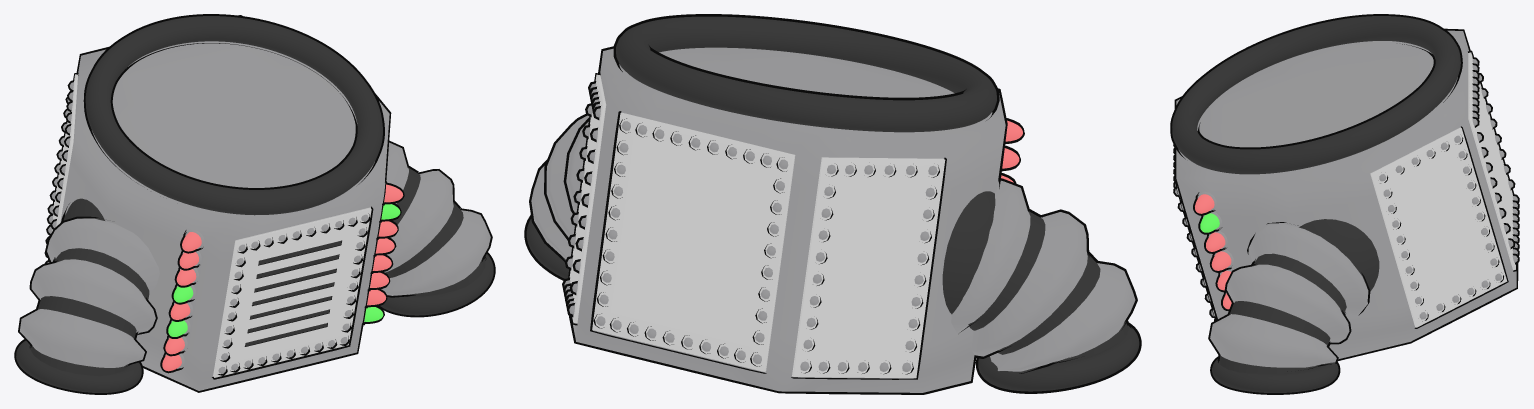
Rendered from BOTTOMS.PHYSICS.ROBOT.glb.
The picture shows the model from 3 angles, left to right: view 1: azimuth 30°, elevation 25°; view 2: azimuth 150°, elevation 25°; view 3: azimuth 270°, elevation 25°; orthographic projection. The views are drawn at different scales.
Parts seen in each view (by area): view 1: BOTTOMS.PHYSICS.ROBOT; view 2: BOTTOMS.PHYSICS.ROBOT; view 3: BOTTOMS.PHYSICS.ROBOT.
Part boxes in pixels (x1,y1,x2,y2): BOTTOMS.PHYSICS.ROBOT: (14, 14, 495, 394); BOTTOMS.PHYSICS.ROBOT: (524, 14, 1141, 394); BOTTOMS.PHYSICS.ROBOT: (1170, 14, 1519, 394).
Size of the model in its own units: 2.02 by 1.13 by 1.32.
